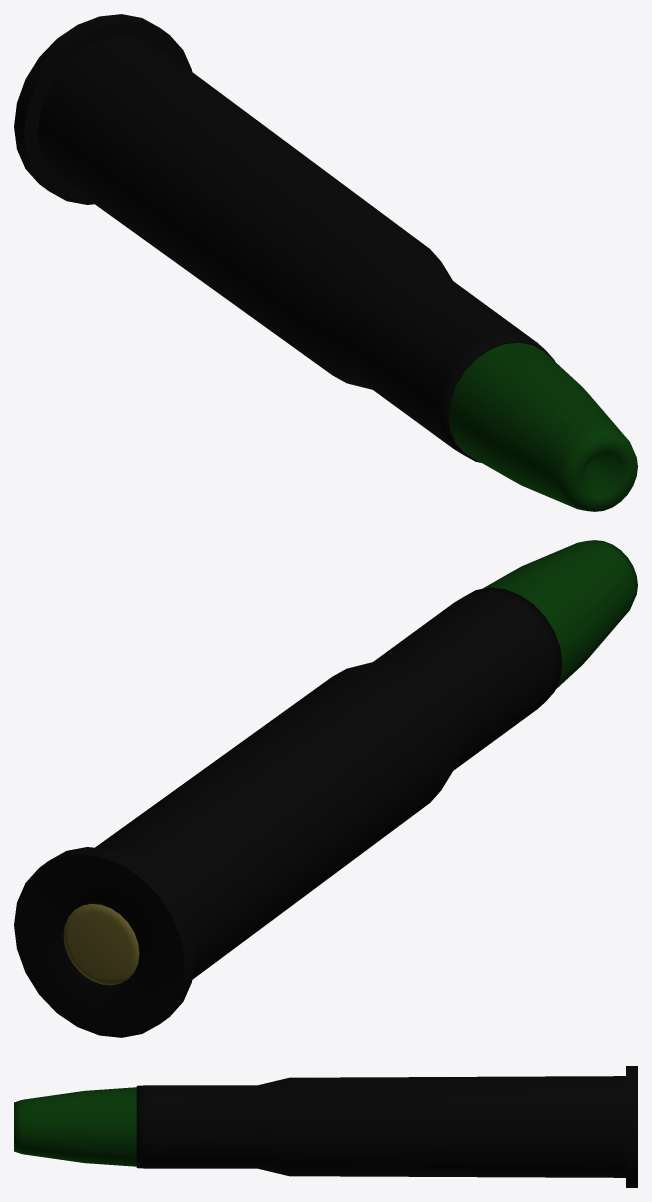
File: boolet_low.FBX
3 views of the same model, one above another, from view 1: azimuth 30°, elevation 25°; view 2: azimuth 150°, elevation 25°; view 3: azimuth 270°, elevation 25° (orthographic). The views are drawn at different scales.
Parts seen in each view (by area): view 1: boolet_casing_low; view 2: boolet_casing_low; view 3: boolet_casing_low.
Boxes of the visible parts, x1=… form: boolet_casing_low: x1=14, y1=14, x2=637, y2=511; boolet_casing_low: x1=14, y1=540, x2=637, y2=1037; boolet_casing_low: x1=14, y1=1066, x2=637, y2=1187.
Bounding box in the file's own units: 0.5129 × 0.5129 × 2.62.
